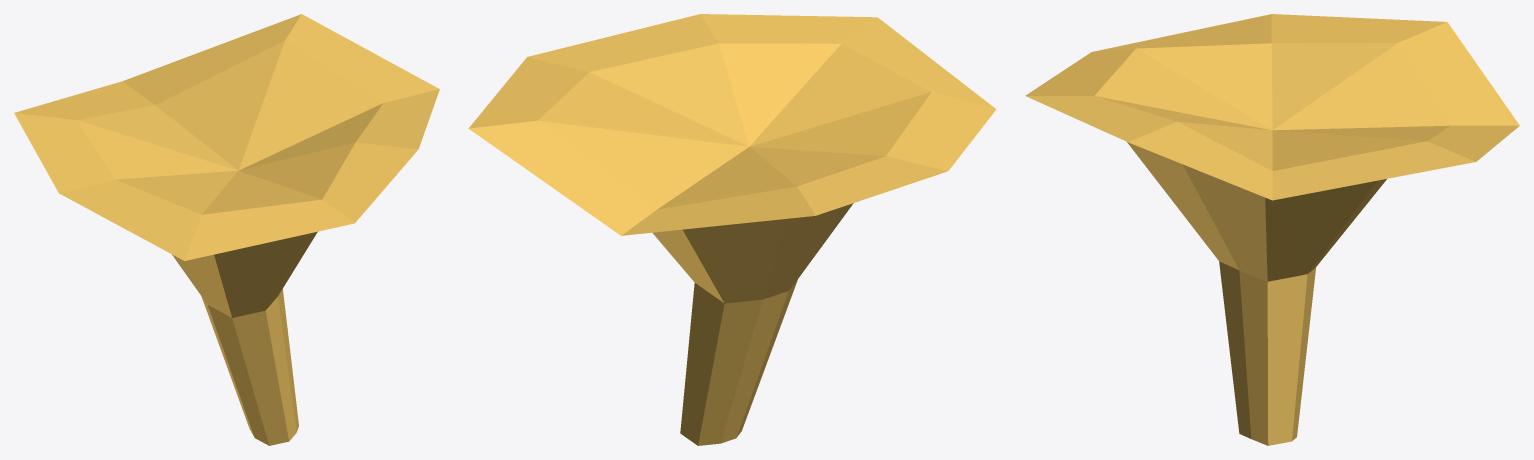
The model's file is Mushroom_j_01.fbx.
The picture shows the model from 3 angles, left to right: view 1: azimuth 30°, elevation 25°; view 2: azimuth 150°, elevation 25°; view 3: azimuth 270°, elevation 25°; orthographic projection. The views are drawn at different scales.
Visible parts, largest first — view 1: Mushroom_j_01; view 2: Mushroom_j_01; view 3: Mushroom_j_01.
Boxes of the visible parts, <box> form: Mushroom_j_01: <box>14,14,439,445</box>; Mushroom_j_01: <box>468,14,996,445</box>; Mushroom_j_01: <box>1025,14,1519,445</box>.
Size of the model in its own units: 18.75 by 14.99 by 19.8.
